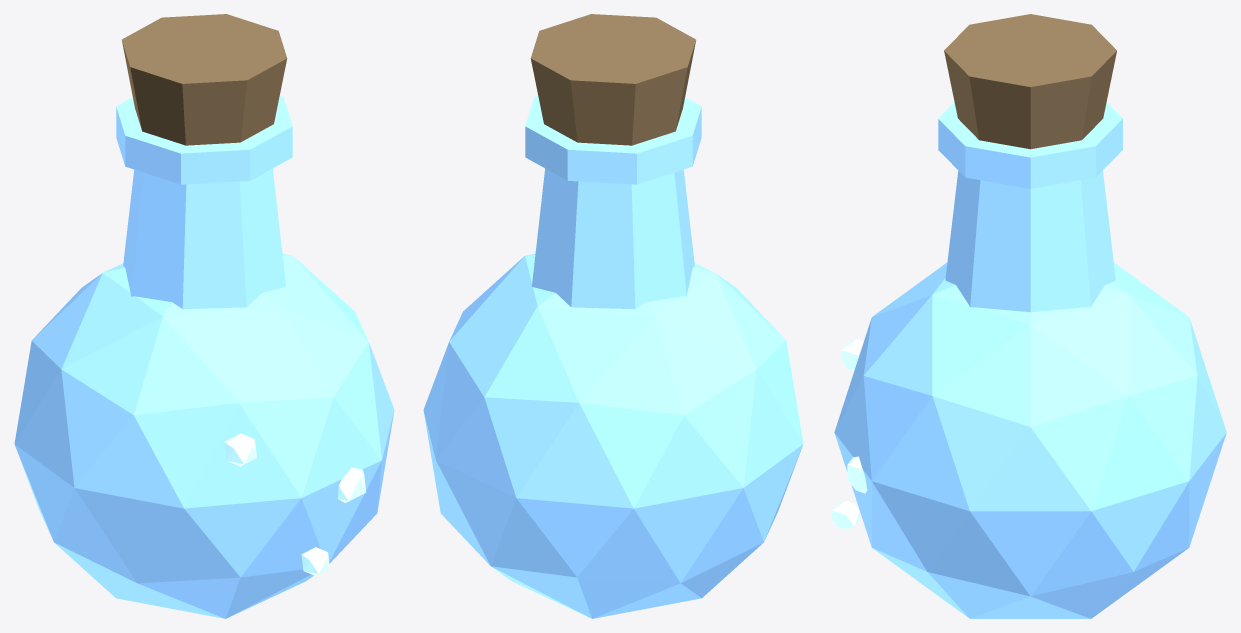
The model's file is mini_shield.glb.
The picture shows the model from 3 angles, left to right: view 1: azimuth 30°, elevation 25°; view 2: azimuth 150°, elevation 25°; view 3: azimuth 270°, elevation 25°; orthographic projection.
Visible parts, largest first — view 1: mini_shield; view 2: mini_shield; view 3: mini_shield.
Boxes of the visible parts, left/top/right/bottom form: mini_shield: left=14, top=14, right=394, bottom=618; mini_shield: left=423, top=14, right=803, bottom=618; mini_shield: left=832, top=14, right=1226, bottom=618.
Bounding box in the file's own units: 0.2587 × 0.428 × 0.2735.
